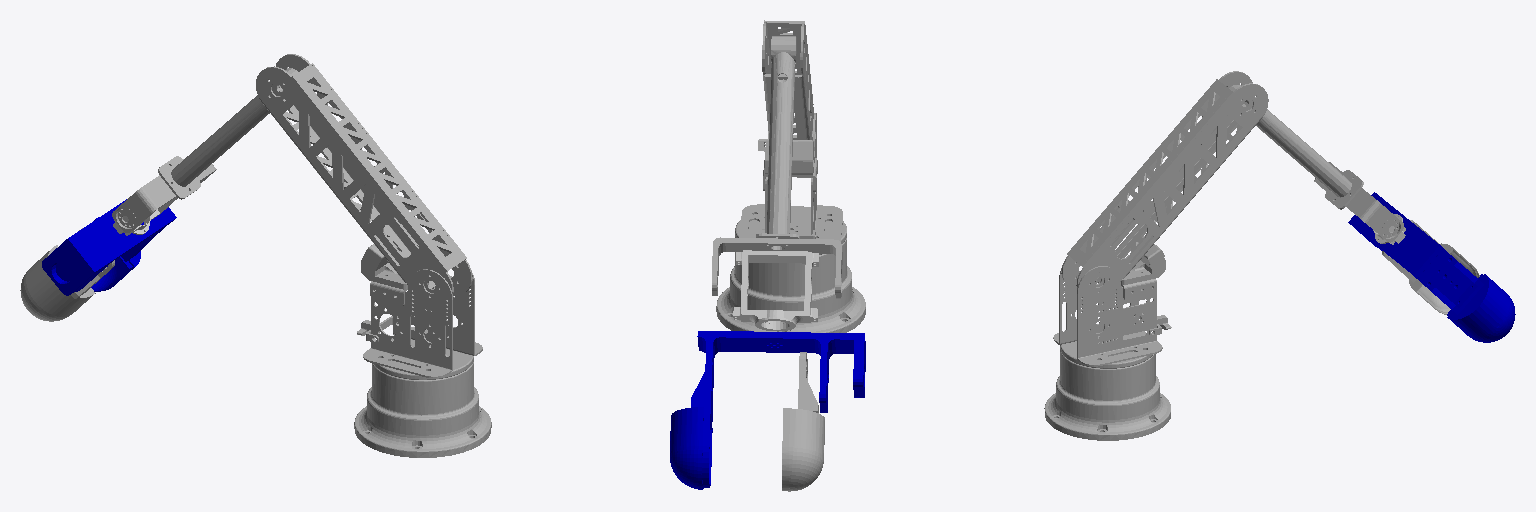
robot.urdf — New_URDF:
<?xml version="1.0" encoding="utf-8"?>
<robot name="New_URDF">

 <link name="world"/>
  
  <joint name="world_to_base" type="fixed">
    <parent link="world"/>
    <child link="base_link"/>
  </joint>
  
  <!-- BASE LINK -->
  <link name="base_link">
    <inertial>
      <origin xyz="-0.3668 -0.3966 0.0019" rpy="0 0 0" />
      <mass value="1.155" />
      <inertia ixx="0.0056" ixy="0" ixz="0" iyy="0.0056" iyz="0" izz="0.0078" />
    </inertial>
    <visual>
      <origin xyz="0 0 0" rpy="0 0 0" />
      <geometry>
        <!-- FIXED PATH: ROAR_pkg -->
        <mesh filename="package://ROAR_pkg/meshes/base_link.STL" />
      </geometry>
      <material name="grey"><color rgba="0.7 0.7 0.7 1.0"/></material>
    </visual>
    <collision>
      <origin xyz="0 0 0" rpy="0 0 0" />
      <geometry>
        <mesh filename="package://ROAR_pkg/meshes/base_link.STL" />
      </geometry>
    </collision>
  </link>

  <!-- JOINT 1 -->
  <link name="Link_1">
    <visual>
      <geometry>
        <mesh filename="package://ROAR_pkg/meshes/Link_1.STL" />
      </geometry>
      <material name="grey"/>
    </visual>
    <collision>
      <geometry>
        <mesh filename="package://ROAR_pkg/meshes/Link_1.STL" />
      </geometry>
    </collision>
    <inertial>
      <mass value="0.56" />
      <inertia ixx="0.001" ixy="0" ixz="0" iyy="0.0009" iyz="0" izz="0.001" />
    </inertial>
  </link>
  
  <joint name="Joint_1" type="revolute">
    <origin xyz="-0.3668 -0.3966 0.0704" rpy="0 0 0" />
    <parent link="base_link" />
    <child link="Link_1" />
    <axis xyz="0 0 -1" />
    <limit lower="-1.5808" upper="1.5808" effort="10.0" velocity="2.0" />
  </joint>

  <!-- JOINT 2 -->
  <link name="Link_2">
    <visual>
      <geometry>
        <mesh filename="package://ROAR_pkg/meshes/Link_2.STL" />
      </geometry>
      <material name="grey"/>
    </visual>
    <collision>
      <geometry>
        <mesh filename="package://ROAR_pkg/meshes/Link_2.STL" />
      </geometry>
    </collision>
    <inertial>
      <mass value="0.37" />
      <inertia ixx="0.003" ixy="0" ixz="0" iyy="0.003" iyz="0" izz="0.006" />
    </inertial>
  </link>

  <joint name="Joint_2" type="revolute">
    <origin xyz="0.0164 -0.0314 0.1531" rpy="1.5708 0 2.0525" />
    <parent link="Link_1" />
    <child link="Link_2" />
    <axis xyz="0 0 -1" />
    <limit lower="-2.4535" upper="0.01" effort="10.0" velocity="2.0" />
  </joint>

  <!-- JOINT 3 -->
  <link name="Link_3">
    <visual>
      <geometry>
        <mesh filename="package://ROAR_pkg/meshes/Link_3.STL" />
      </geometry>
      <material name="grey"/>
    </visual>
    <collision>
      <geometry>
        <mesh filename="package://ROAR_pkg/meshes/Link_3.STL" />
      </geometry>
    </collision>
    <inertial>
      <mass value="0.22" />
      <inertia ixx="0.001" ixy="0" ixz="0" iyy="0.001" iyz="0" izz="0.001" />
    </inertial>
  </link>

  <joint name="Joint_3" type="revolute">
    <origin xyz="0.2938 0.2713 0" rpy="3.1416 0 3.1416" />
    <parent link="Link_2" />
    <child link="Link_3" />
    <axis xyz="0 0 -1" />
    <limit lower="-1.5808" upper="1.5808" effort="10.0" velocity="2.0" />
  </joint>

  <!-- JOINT 4 -->
  <link name="Link_4">
    <visual>
      <geometry>
        <mesh filename="package://ROAR_pkg/meshes/Link_4.STL" />
      </geometry>
      <material name="silver"><color rgba="0.8 0.8 0.8 1.0"/></material>
    </visual>
    <collision>
      <geometry>
        <mesh filename="package://ROAR_pkg/meshes/Link_4.STL" />
      </geometry>
    </collision>
    <inertial>
      <mass value="0.10" />
      <inertia ixx="0.0001" ixy="0" ixz="0" iyy="0.0001" iyz="0" izz="0.00005" />
    </inertial>
  </link>

  <joint name="Joint_4" type="revolute">
    <origin xyz="-0.2498 -0.2665 0" rpy="0 0 0" />
    <parent link="Link_3" />
    <child link="Link_4" />
    <axis xyz="0 0 -1" />
    <limit lower="-1.5808" upper="1.5808" effort="10.0" velocity="2.0" />
  </joint>

  <!-- JOINT 5 -->
  <link name="Link_5">
    <visual>
      <geometry>
        <mesh filename="package://ROAR_pkg/meshes/Link_5.STL" />
      </geometry>
      <material name="blue"><color rgba="0.0 0.0 0.8 1.0"/></material>
    </visual>
    <collision>
      <geometry>
        <mesh filename="package://ROAR_pkg/meshes/Link_5.STL" />
      </geometry>
    </collision>
    <inertial>
      <mass value="0.50" />
      <inertia ixx="0.001" ixy="0" ixz="0" iyy="0.003" iyz="0" izz="0.003" />
    </inertial>
  </link>

  <joint name="Joint_5" type="revolute">
    <origin xyz="-0.0419 -0.0456 0" rpy="1.5708 1.203 -0.742" />
    <parent link="Link_4" />
    <child link="Link_5" />
    <axis xyz="0 0 -1" />
    <limit lower="-1.5808" upper="1.5808" effort="10.0" velocity="2.0" />
  </joint>

  <!-- JOINT EE -->
  <link name="Link_EE">
    <visual>
      <geometry>
        <mesh filename="package://ROAR_pkg/meshes/Link_EE.STL" />
      </geometry>
      <material name="grey"/>
    </visual>
    <collision>
      <geometry>
        <mesh filename="package://ROAR_pkg/meshes/Link_EE.STL" />
      </geometry>
    </collision>
    <inertial>
      <mass value="0.18" />
      <inertia ixx="0.0002" ixy="0" ixz="0" iyy="0.0001" iyz="0" izz="0.0003" />
    </inertial>
  </link>

  <joint name="Joint_EE" type="prismatic">
    <origin xyz="-0.0356 0.0137 0.0836" rpy="1.5708 0.742 1.203" />
    <parent link="Link_5" />
    <child link="Link_EE" />
    <axis xyz="0 0 -1" />
    <limit lower="-0.1273" upper="0.01" effort="10.0" velocity="1.0" />
  </joint>

<ros2_control name="RobotSystem" type="system">
    <hardware>
      <plugin>gz_ros2_control/GazeboSimSystem</plugin>
    </hardware>

    <joint name="Joint_1">
      <command_interface name="position"/>
      <state_interface name="position"/>
      <state_interface name="velocity"/>
    </joint>
    <joint name="Joint_2">
      <command_interface name="position"/>
      <state_interface name="position"/>
      <state_interface name="velocity"/>
    </joint>
    <joint name="Joint_3">
      <command_interface name="position"/>
      <state_interface name="position"/>
      <state_interface name="velocity"/>
    </joint>
    <joint name="Joint_4">
      <command_interface name="position"/>
      <state_interface name="position"/>
      <state_interface name="velocity"/>
    </joint>
    <joint name="Joint_5">
      <command_interface name="position"/>
      <state_interface name="position"/>
      <state_interface name="velocity"/>
    </joint>
    <joint name="Joint_EE">
      <command_interface name="position"/>
      <state_interface name="position"/>
      <state_interface name="velocity"/>
    </joint>
  </ros2_control>

  <gazebo>
  <plugin filename="gz_ros2_control-system" name="gz_ros2_control::GazeboSimROS2ControlPlugin">
    <parameters>package://ROAR_MoveIT/config/ros2_controllers.yaml</parameters>
  </plugin>
</gazebo>

</robot>

--- Facts derived from the render (not from the file) ---
Views: 3 orthographic renders of the robot side by side, from view 1: azimuth 30°, elevation 25°; view 2: azimuth 150°, elevation 25°; view 3: azimuth 270°, elevation 25°.
Robot: New_URDF — 8 links, 7 joints (5 revolute, 1 prismatic, 1 fixed); root link world; default pose: every joint at zero.
Links seen in each view (by area): view 1: Link_2, Link_1, base_link, Link_5, Link_3, Link_EE; view 2: Link_5, Link_3, base_link, Link_1, Link_EE, Link_4, Link_2; view 3: Link_2, Link_1, base_link, Link_5, Link_3, Link_EE.
Boxes of the visible links, x1,y1,x2,y2 form: Link_2: (256,54,472,303); Link_1: (357,242,482,379); base_link: (354,362,491,457); Link_5: (42,199,176,295); Link_3: (112,68,297,232); Link_EE: (20,228,114,321); Link_5: (670,331,865,489); Link_3: (712,36,842,298); base_link: (716,237,865,332); Link_1: (735,113,846,254); Link_EE: (782,352,824,491); Link_4: (733,250,819,331); Link_2: (762,20,813,139); Link_2: (1061,71,1268,291); Link_1: (1053,236,1171,368); base_link: (1044,349,1170,440); Link_5: (1348,192,1515,342); Link_3: (1229,85,1403,242); Link_EE: (1382,220,1479,314).
Bounding box of the posed robot: 0.5243 × 0.8158 × 0.586 m (x, y, z).
7 mesh visuals loaded from 7 distinct referenced files (7 binary STL).